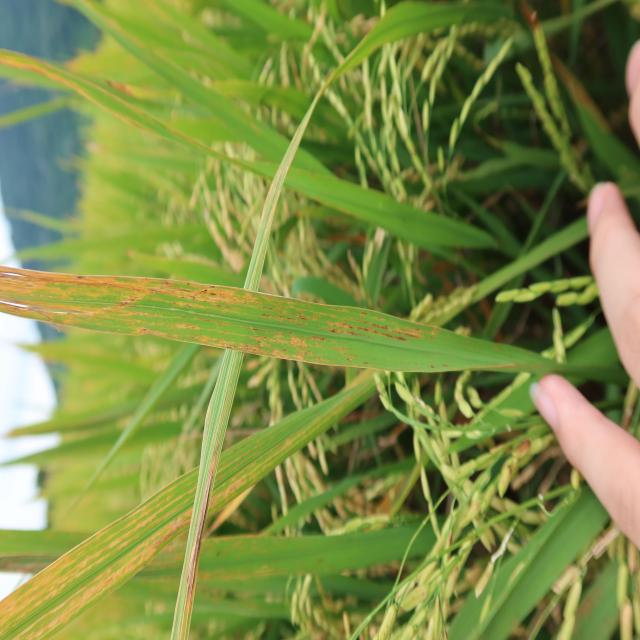Dom soc vi khuan: (0, 464, 199, 640), (10, 504, 193, 640), (207, 401, 346, 518), (0, 265, 263, 318), (259, 294, 440, 344), (0, 294, 178, 341), (175, 321, 359, 365)
